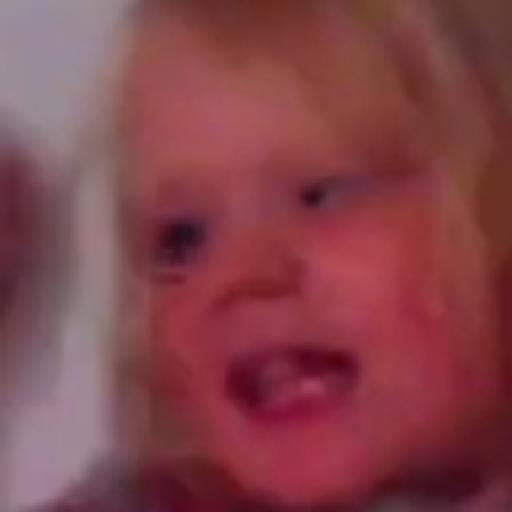Autism: (84, 32, 512, 492)
